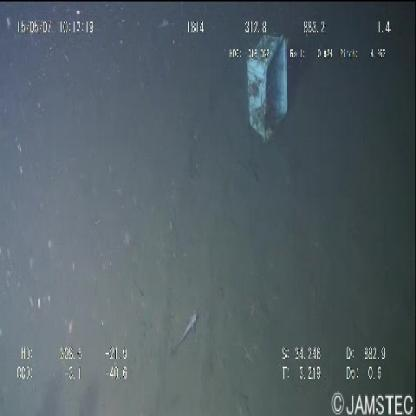Rác: (242, 28, 294, 146)
